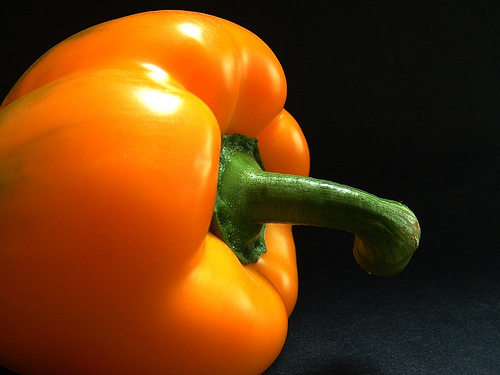capsicum: (0, 8, 424, 374)
